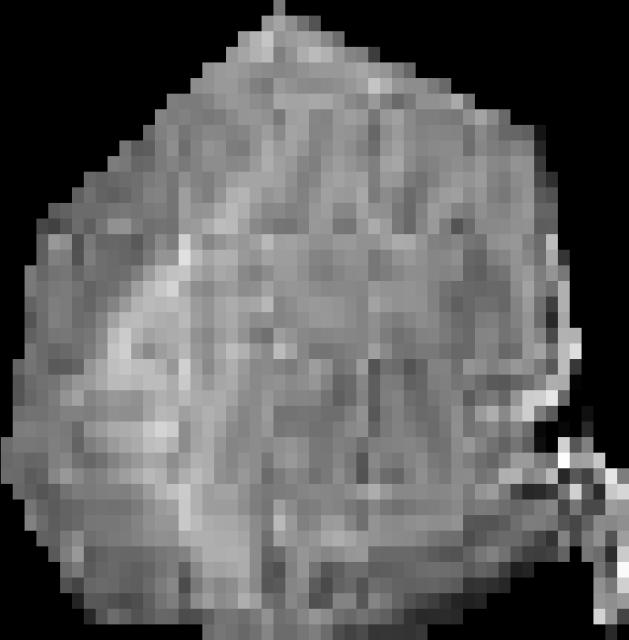tumor_good_chance: (1, 0, 629, 640)
